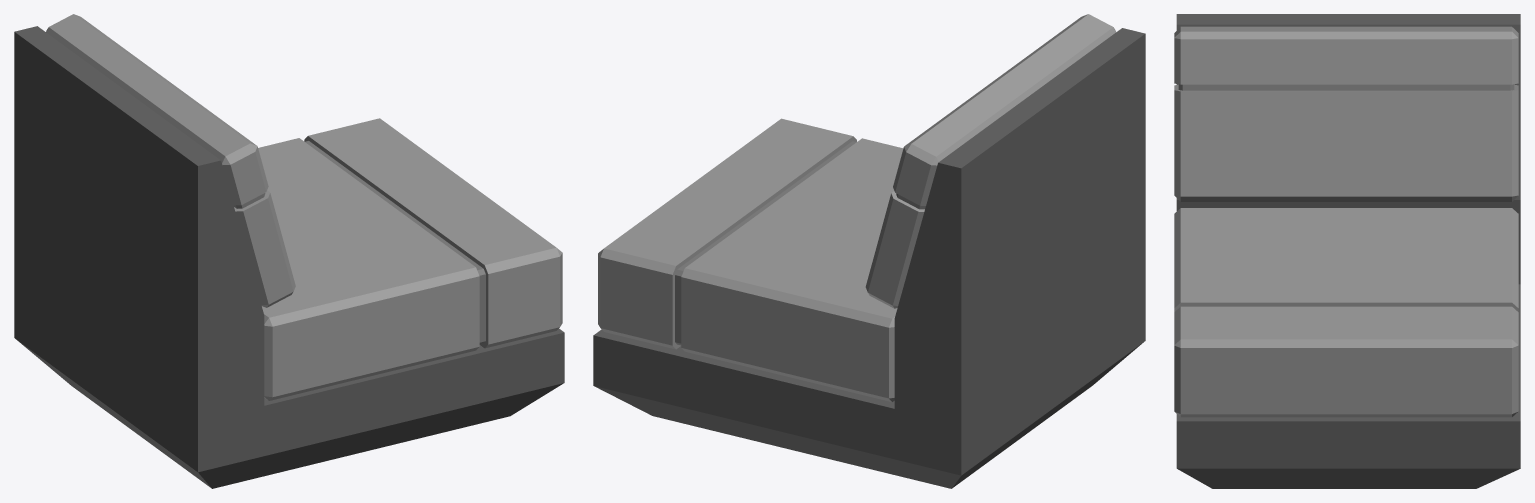
Rendered from couch_B_seat.FBX.
3 renders of one model, left to right at view 1: azimuth 30°, elevation 25°; view 2: azimuth 150°, elevation 25°; view 3: azimuth 270°, elevation 25°, orthographic. The views are drawn at different scales.
Visible parts, largest first — view 1: couch_B_seat; view 2: couch_B_seat; view 3: couch_B_seat.
Boxes of the visible parts, x1,y1,x2,y2 form: couch_B_seat: [14, 14, 564, 488]; couch_B_seat: [593, 14, 1145, 488]; couch_B_seat: [1174, 14, 1520, 488].
Bounding box in the file's own units: 44.41 × 40.82 × 38.78.
